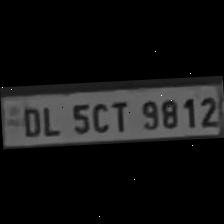1: (177, 94, 197, 130)
2: (194, 93, 220, 127)
5: (63, 99, 91, 135)
8: (156, 95, 180, 129)
9: (134, 96, 160, 132)
C: (88, 99, 110, 134)
D: (16, 103, 41, 138)
L: (37, 102, 62, 137)
T: (107, 96, 132, 132)
